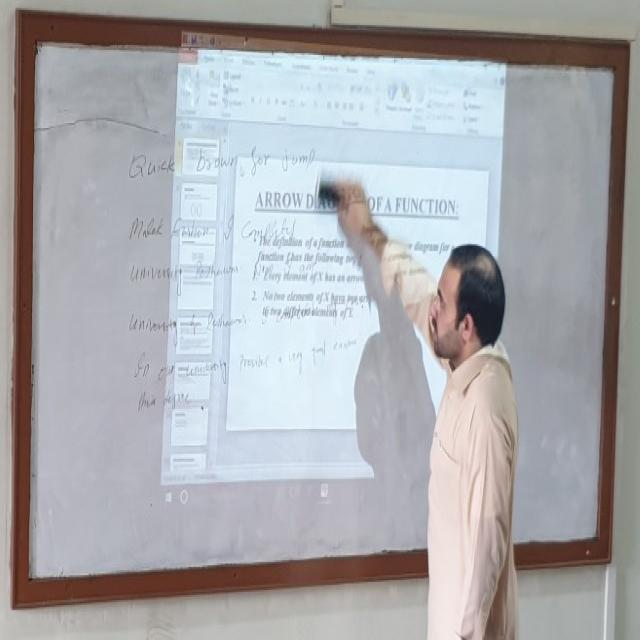Instructor: (395, 218, 541, 640)
Slide: (158, 28, 505, 517)
White-board: (21, 22, 620, 600)
